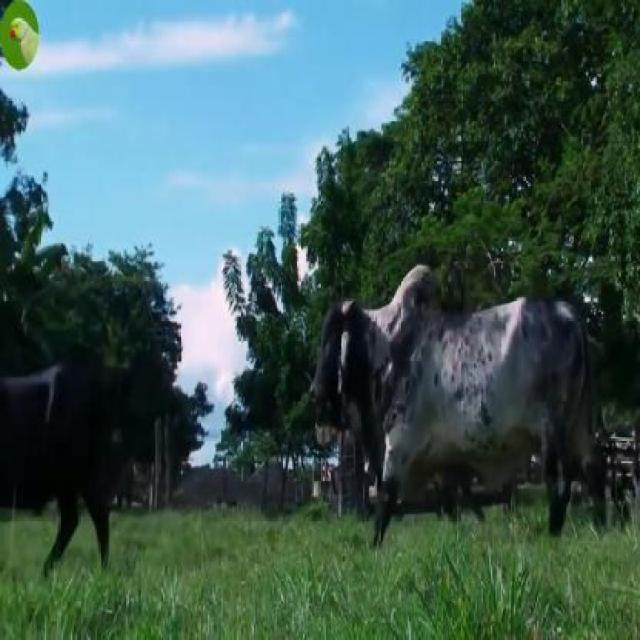Cow: (312, 260, 591, 554)
